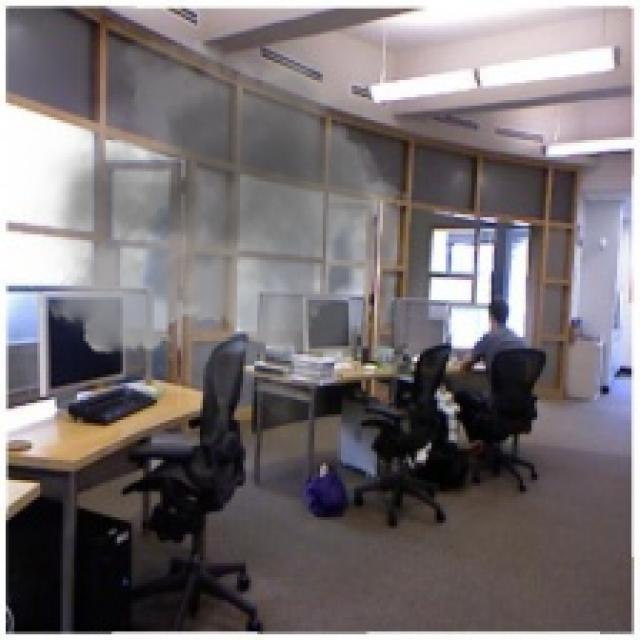Smoke: (23, 17, 423, 440)
